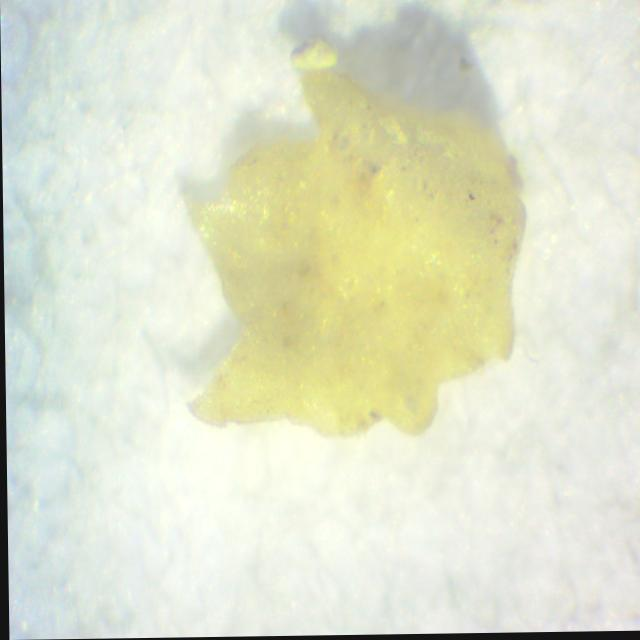microplastic: (185, 41, 528, 442)
